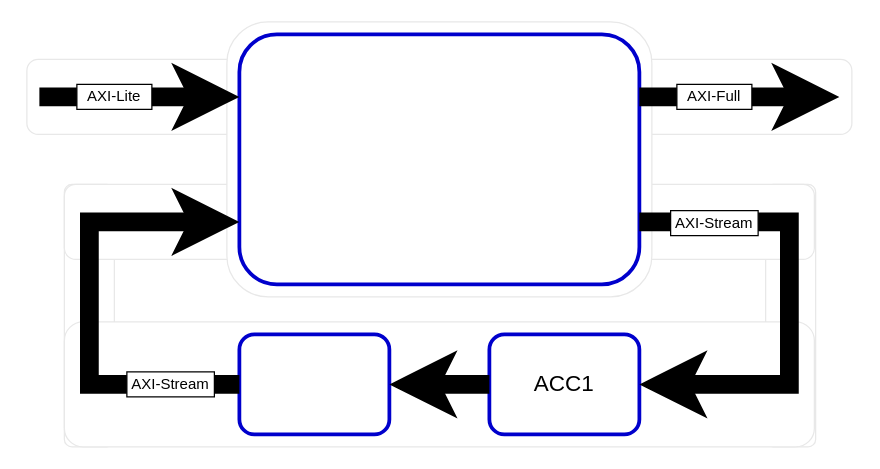
Some shapes in this 880 by 469 pixel diagram are drawn without their labels. The shapes that lost their labels are listed below. From the top down, each one's box as (x1, y1, x2, y2) in pixels, then its label:
(237, 32, 641, 286): DMA
(237, 332, 391, 436): ACC2
